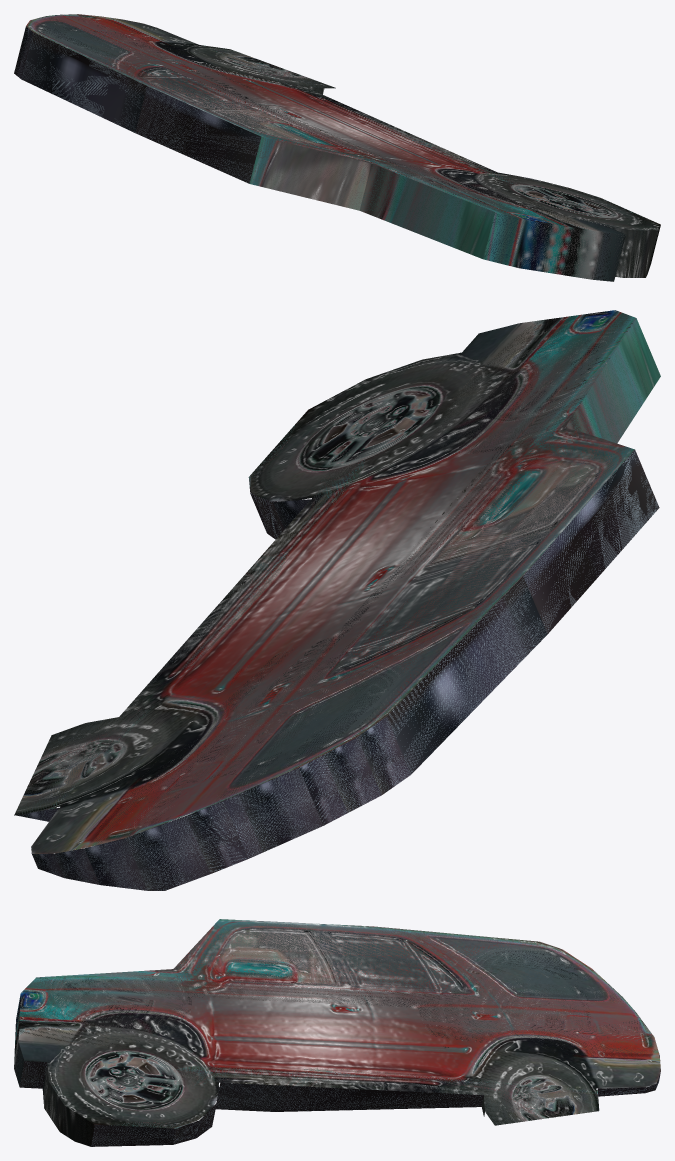
File: New Red Car Without Water.fbx
The picture shows the model from 3 angles, top to bottom: view 1: azimuth 30°, elevation 25°; view 2: azimuth 150°, elevation 25°; view 3: azimuth 270°, elevation 25°; orthographic projection. The views are drawn at different scales.
Visible parts, largest first — view 1: Model; view 2: Model; view 3: Model.
Boxes of the visible parts, bbox=[...] form: Model: bbox=[14, 14, 660, 281]; Model: bbox=[14, 310, 660, 890]; Model: bbox=[14, 919, 660, 1146].
Bounding box in the file's own units: 203 × 77.11 × 407.
